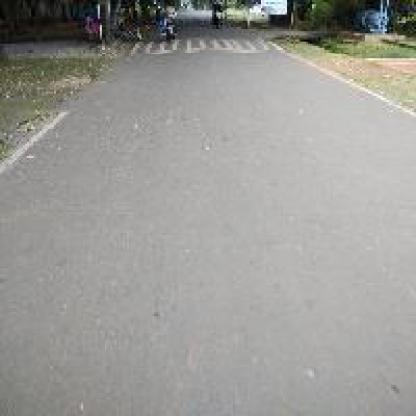Speed Bump: (179, 35, 281, 54)
